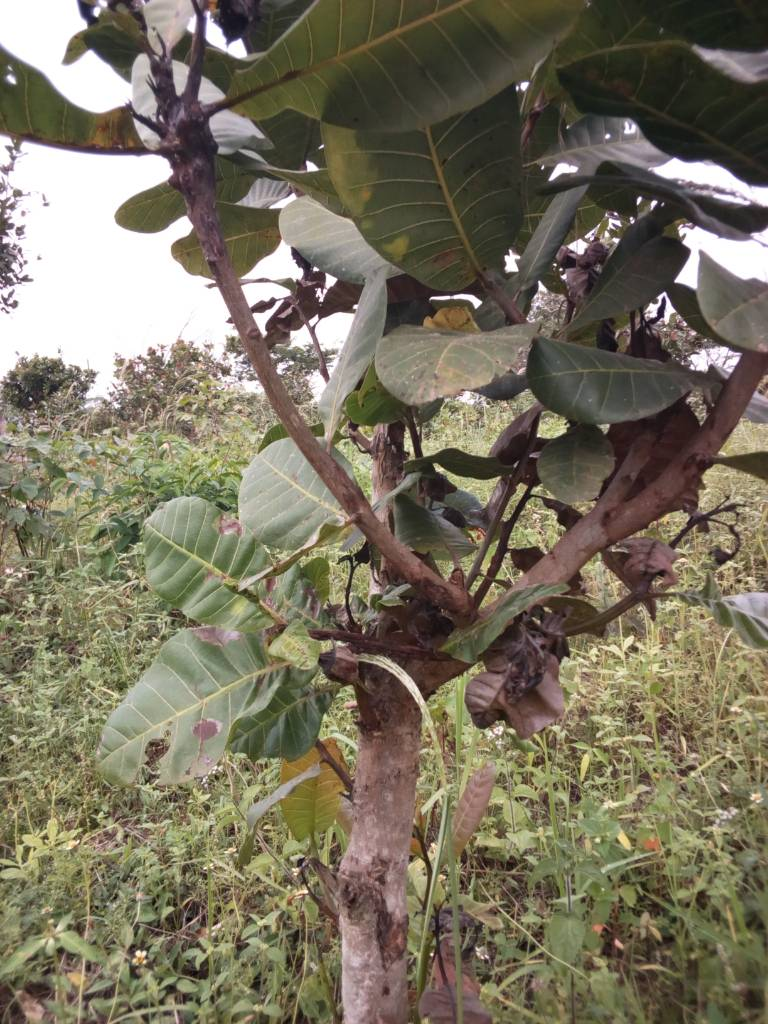Dessèchement des bourgeons: (119, 66, 301, 169), (616, 503, 747, 596), (468, 636, 572, 736)
